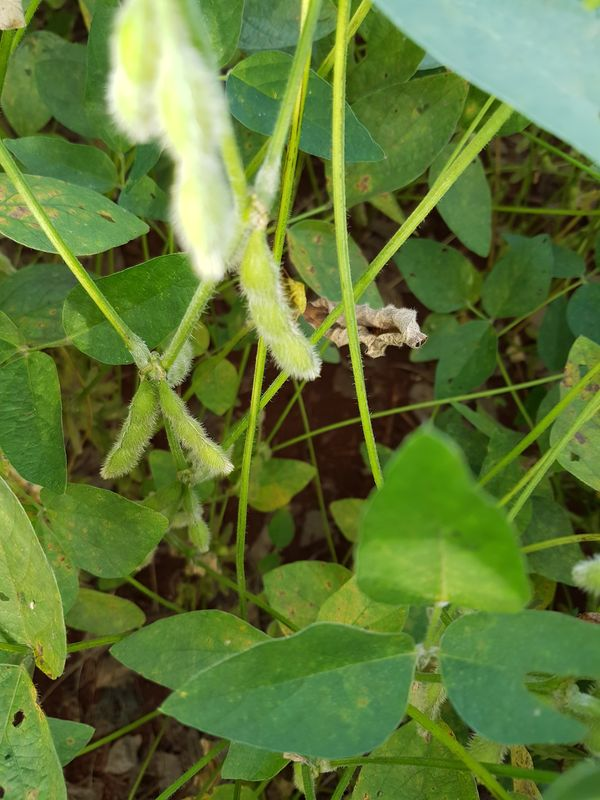Euschistus_heros_ninfa: (271, 269, 318, 320)
